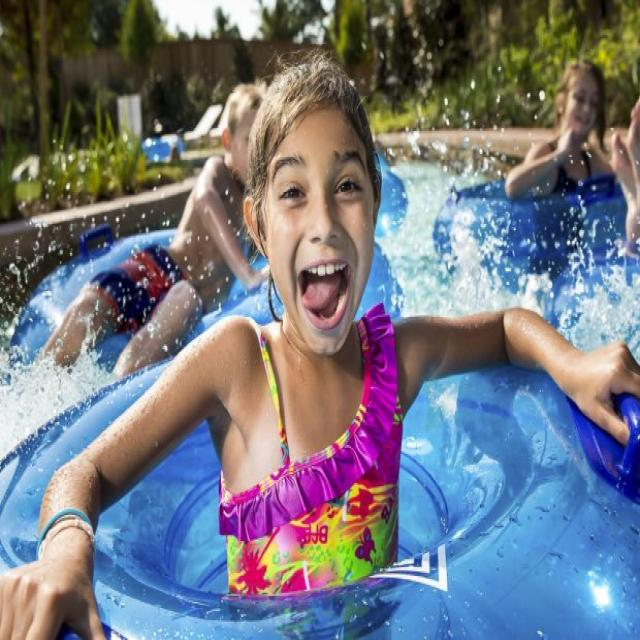child: (11, 53, 640, 639), (34, 73, 266, 381), (507, 57, 613, 193)
